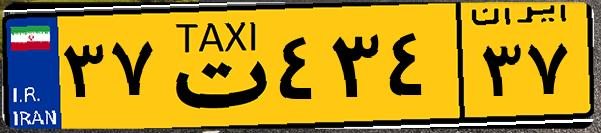3: (330, 28, 385, 110), (57, 26, 110, 100), (475, 38, 525, 113)
4: (270, 28, 330, 110), (385, 28, 445, 110)
7: (525, 38, 570, 115), (110, 28, 158, 98)
ت: (158, 12, 270, 120)
